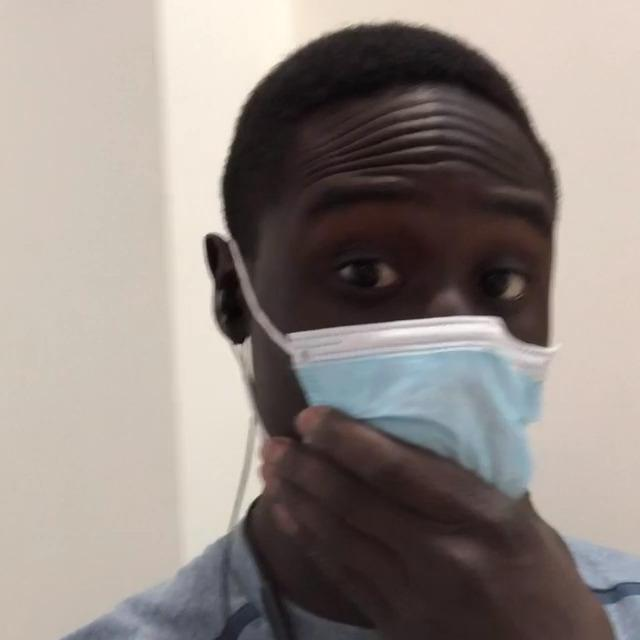Mask: (278, 315, 549, 501)
NO-Hardhat: (238, 18, 557, 204)
Person: (0, 2, 640, 640)
